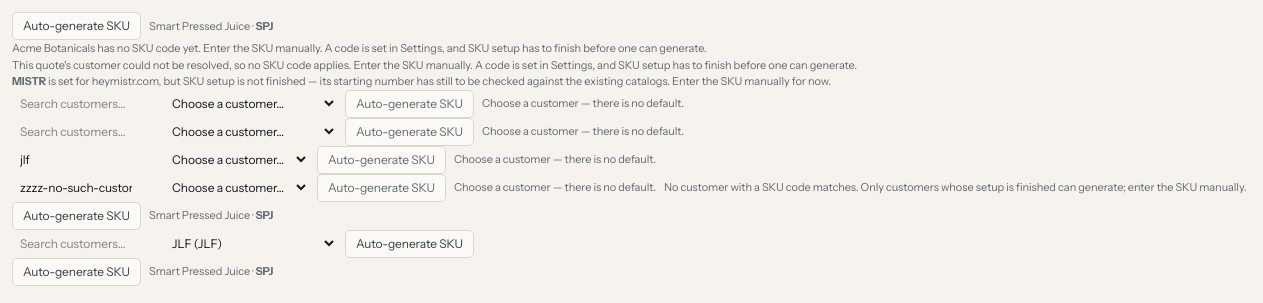
Test: a refusal stays visible and does not fill the field
Click the 8th button with test id "sku-autogenerate" at (76, 272), box [12,258,141,286]
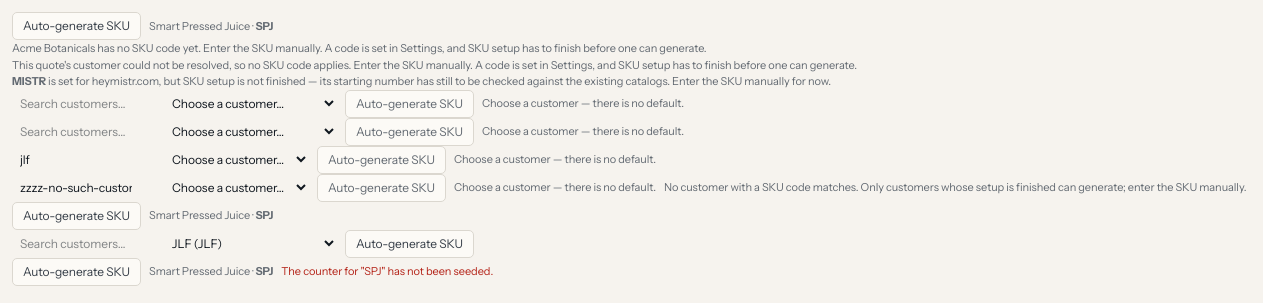
Expected: the message "The counter for \"SPJ\" has not been seeded." is shown, [281,263,493,280]
